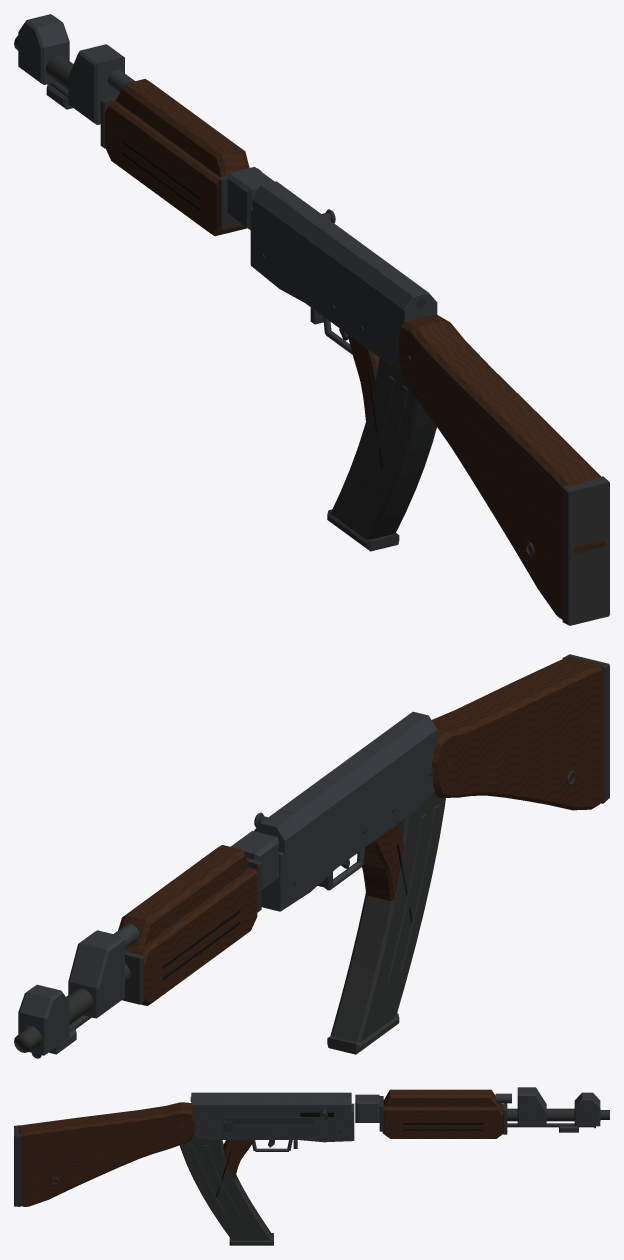
File: weapon-12-Da2g7mfQ.glb
3 renders of one model, top to bottom at view 1: azimuth 30°, elevation 25°; view 2: azimuth 150°, elevation 25°; view 3: azimuth 270°, elevation 25°, orthographic. The views are drawn at different scales.
Visible parts, largest first — view 1: salient_weapon_body, salient_weapon_magazine; view 2: salient_weapon_body, salient_weapon_magazine; view 3: salient_weapon_body, salient_weapon_magazine.
Boxes of the visible parts, x1,y1,x2,y2 form: salient_weapon_body: (14, 14, 609, 625); salient_weapon_magazine: (327, 358, 436, 551); salient_weapon_body: (14, 654, 609, 1058); salient_weapon_magazine: (327, 791, 445, 1054); salient_weapon_body: (14, 1087, 609, 1206); salient_weapon_magazine: (180, 1137, 273, 1245).
Size of the model in its own units: 0.0534 by 0.2481 by 0.8872.
Materials: 9 (3 with a texture image).
